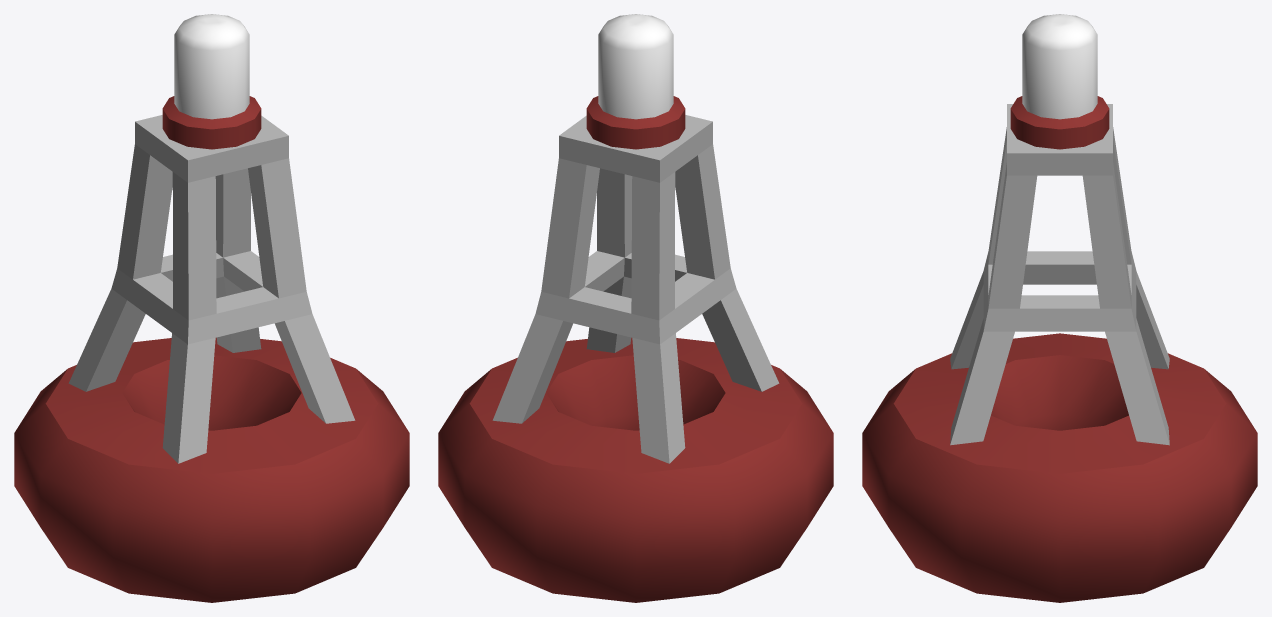
Rendered from M_Bouy_Obstacle_0.fbx.
The picture shows the model from 3 angles, left to right: view 1: azimuth 30°, elevation 25°; view 2: azimuth 150°, elevation 25°; view 3: azimuth 270°, elevation 25°; orthographic projection.
Parts seen in each view (by area): view 1: M_Bouy_Obstacle_0; view 2: M_Bouy_Obstacle_0; view 3: M_Bouy_Obstacle_0.
Part boxes in pixels (x1,y1,x2,y2): M_Bouy_Obstacle_0: (14,14,409,602); M_Bouy_Obstacle_0: (438,14,833,602); M_Bouy_Obstacle_0: (862,14,1257,602).
Size of the model in its own units: 290 by 423 by 290.
